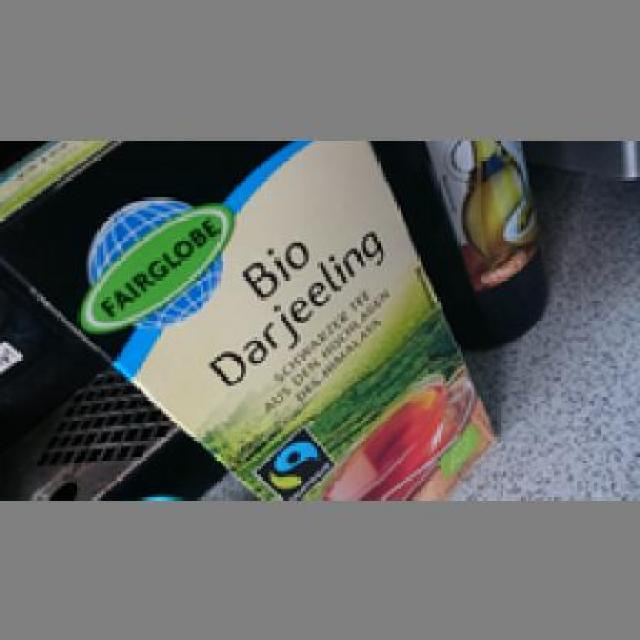Tea: (2, 134, 488, 497)
